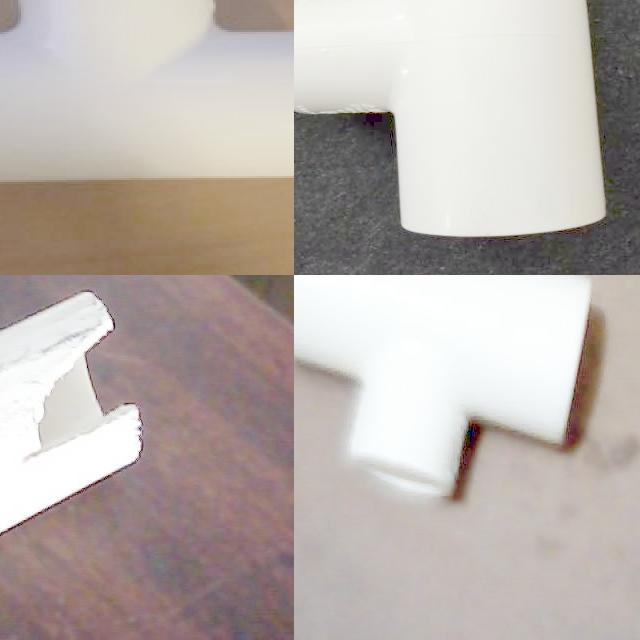Defective: (0, 318, 143, 474)
T Joint: (294, 0, 606, 240), (294, 275, 594, 502), (0, 0, 294, 188), (0, 294, 144, 538)
